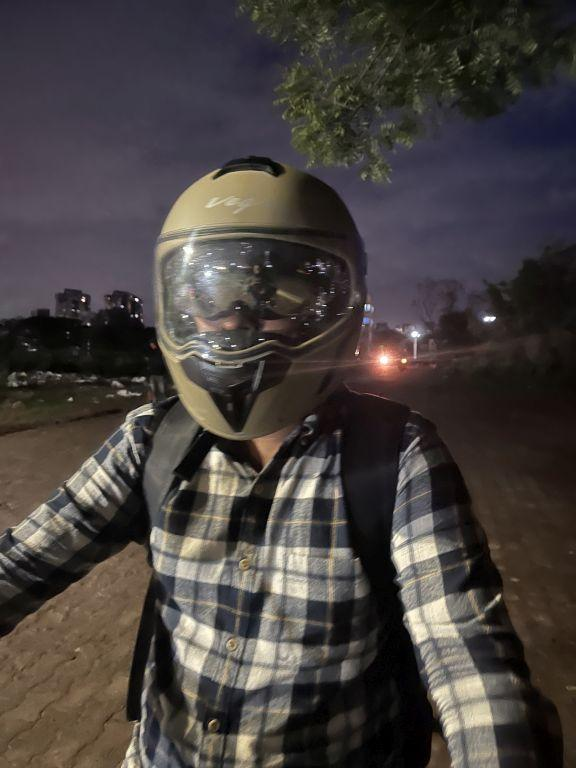helmet: (140, 144, 377, 447)
